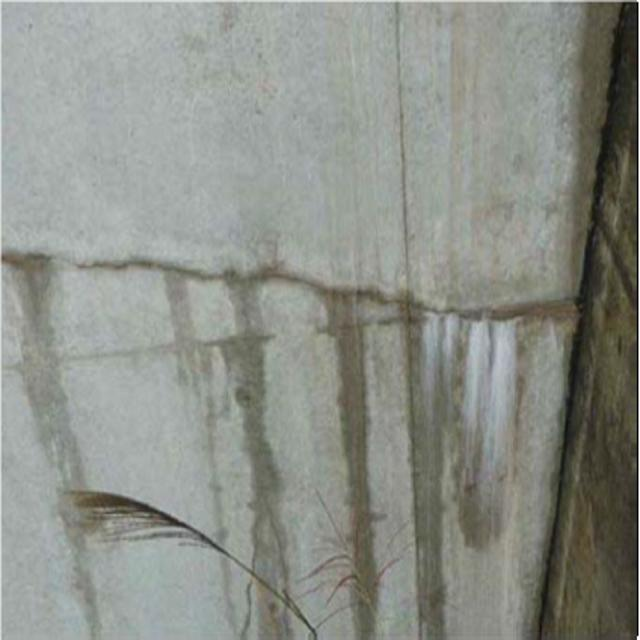leakage: (10, 238, 534, 636)
